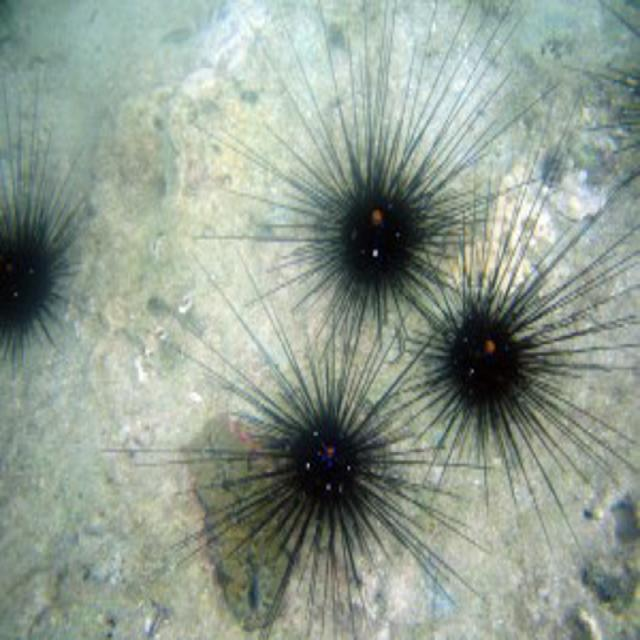Urchin: (166, 260, 487, 588), (217, 9, 521, 326), (402, 183, 634, 496), (1, 92, 94, 376)
